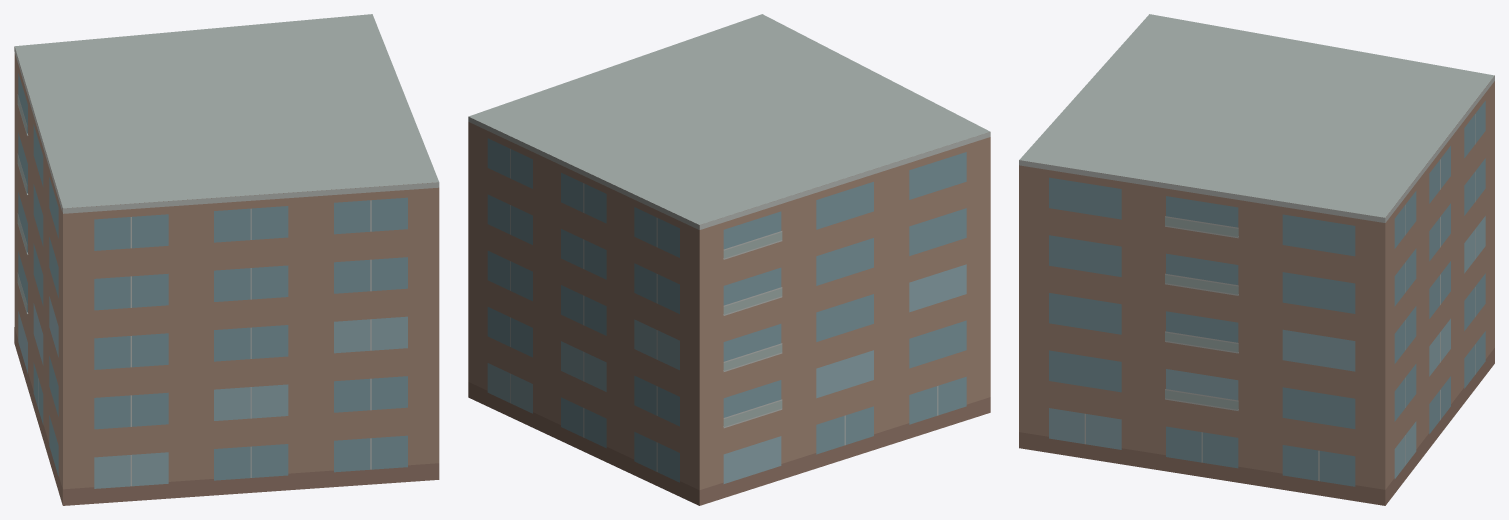
File: survey-upis-32638391.glb
3 views of the same model, side by side, from view 1: azimuth 30°, elevation 25°; view 2: azimuth 150°, elevation 25°; view 3: azimuth 270°, elevation 25° (orthographic). The views are drawn at different scales.
Parts seen in each view (by area): view 1: survey-upis-32638391.tmp; view 2: survey-upis-32638391.tmp; view 3: survey-upis-32638391.tmp.
Part boxes in pixels (left/top/right/bottom): survey-upis-32638391.tmp: left=14, top=14, right=439, bottom=505; survey-upis-32638391.tmp: left=468, top=14, right=990, bottom=505; survey-upis-32638391.tmp: left=1019, top=14, right=1494, bottom=505.
Bounding box in the file's own units: 20.2 × 13.3 × 19.92.
